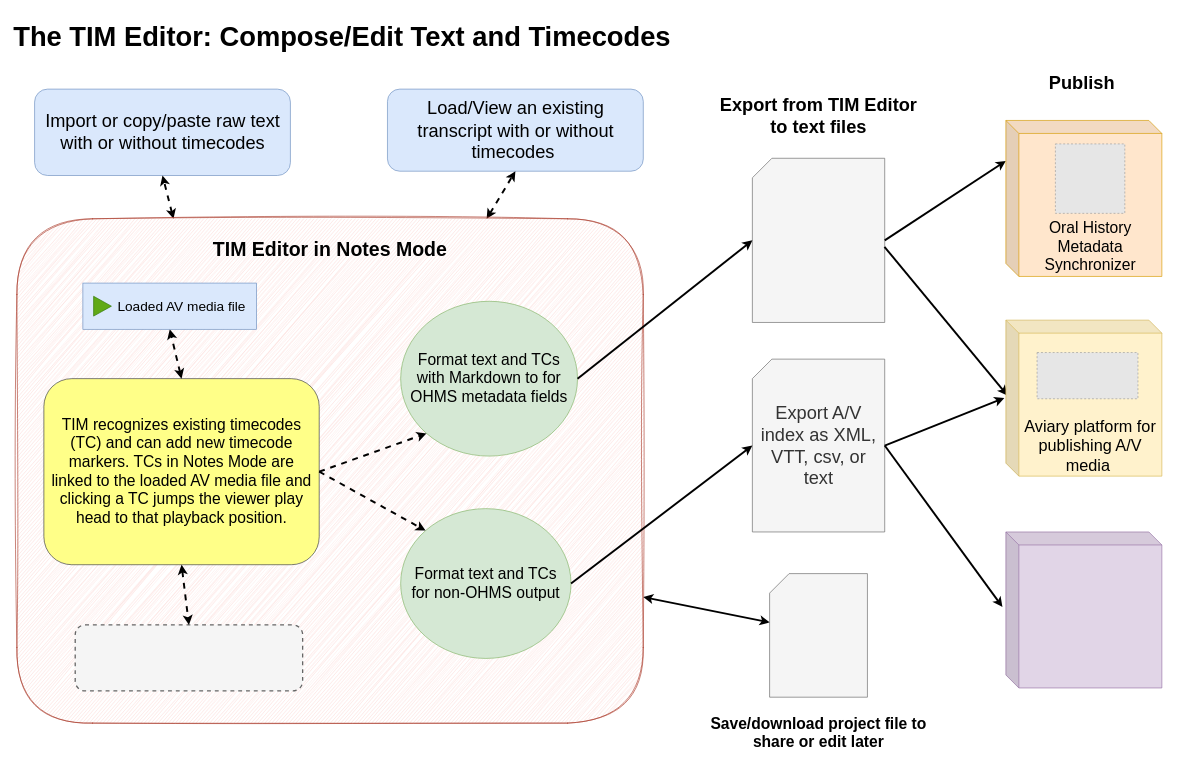
This 1197x766 diagram has some shape labels left out. Grey dashed boxes stand in for pictures. Each missing label, with the centre of its shape:
Export indexed text file in OHMS.xml format: [818,240]
Insert new TC anywhere in transcript with keystroke ctrl/cmd-j: [188,657]
Other A/V indexing system or as text: [1083,609]
TIM project file in JSON format: [818,635]
